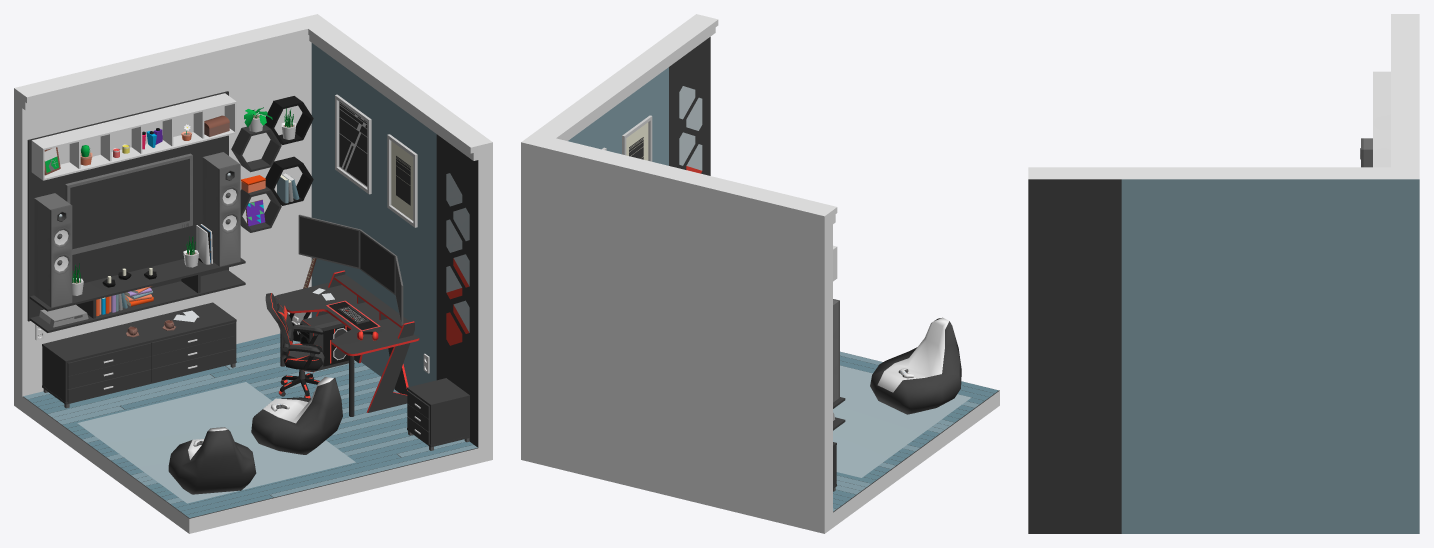
File: room_20.glb
3 views of the same model, side by side, from view 1: azimuth 30°, elevation 25°; view 2: azimuth 150°, elevation 25°; view 3: azimuth 270°, elevation 25° (orthographic). The views are drawn at different scales.
Parts seen in each view (by area): view 1: Walls_006.045, Walls_116.013, tv_wall_021.001, Walls_011.007, shelf_070.001, carpet_006.002, floor_005.002, floor_005.001, electronics_035.001, Walls_011.006, shelf_072.001, office_table_028.001 (+20 smaller); view 2: Walls_006.045, Walls_116.013, carpet_006.002, office_chair_022.002, Walls_011.007, Walls_011.006, floor_005.001, Walls_005.377, picture_063.001, Walls_005.378, floor_005.002, picture_011.002 (+3 smaller); view 3: Walls_116.013, Walls_011.007, Walls_006.045, shelf_072.001, Walls_005.382, Walls_005.377, Walls_005.378, Walls_005.383.
Part boxes in pixels (x1=…): Walls_006.045: x1=14, y1=17, x2=311, y2=411; Walls_116.013: x1=303, y1=14, x2=450, y2=386; tv_wall_021.001: x1=27, y1=91, x2=245, y2=332; Walls_011.007: x1=436, y1=112, x2=492, y2=463; shelf_070.001: x1=42, y1=302, x2=236, y2=408; carpet_006.002: x1=77, y1=382, x2=355, y2=503; floor_005.002: x1=23, y1=333, x2=380, y2=456; floor_005.001: x1=106, y1=389, x2=477, y2=517; electronics_035.001: x1=65, y1=153, x2=192, y2=254; Walls_011.006: x1=22, y1=338, x2=478, y2=533; shelf_072.001: x1=31, y1=93, x2=236, y2=180; office_table_028.001: x1=274, y1=270, x2=419, y2=416; Walls_006.045: x1=535, y1=140, x2=832, y2=533; Walls_116.013: x1=521, y1=44, x2=668, y2=463; carpet_006.002: x1=833, y1=365, x2=971, y2=477; office_chair_022.002: x1=870, y1=317, x2=961, y2=414; Walls_011.007: x1=655, y1=14, x2=710, y2=175; Walls_011.006: x1=833, y1=355, x2=999, y2=527; floor_005.001: x1=840, y1=351, x2=998, y2=451; Walls_005.377: x1=548, y1=17, x2=715, y2=140; picture_063.001: x1=679, y1=86, x2=702, y2=173; Walls_005.378: x1=549, y1=18, x2=718, y2=141; floor_005.002: x1=833, y1=448, x2=914, y2=511; picture_011.002: x1=622, y1=115, x2=652, y2=161; Walls_116.013: x1=1121, y1=171, x2=1419, y2=533; Walls_011.007: x1=1028, y1=171, x2=1121, y2=533; Walls_006.045: x1=1401, y1=14, x2=1419, y2=171; shelf_072.001: x1=1373, y1=71, x2=1390, y2=167; Walls_005.382: x1=1394, y1=14, x2=1400, y2=171; Walls_005.377: x1=1028, y1=169, x2=1390, y2=171; Walls_005.378: x1=1028, y1=167, x2=1400, y2=168; Walls_005.383: x1=1391, y1=14, x2=1394, y2=171.
Size of the model in its own units: 4.2 by 4.2 by 4.2.
Materials: 1 (1 with a texture image).
